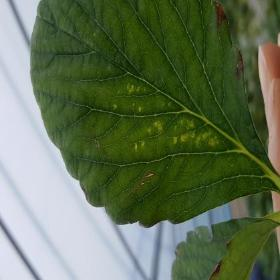Angular Leafspot: (104, 64, 230, 155)
